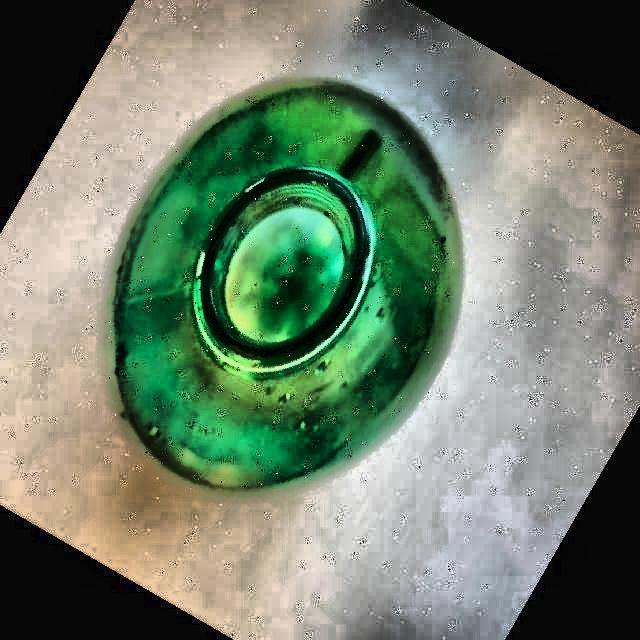plastic: (112, 80, 461, 488)
